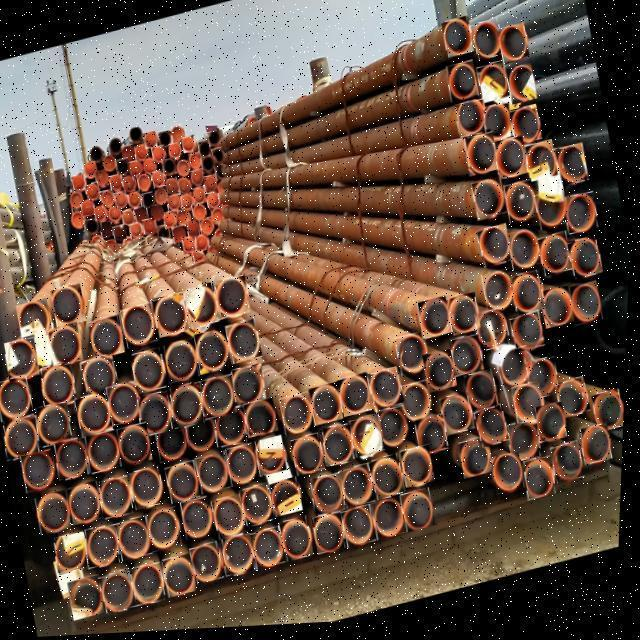pipe: (77, 392, 116, 439), (82, 354, 122, 399), (185, 284, 223, 331), (103, 569, 141, 616), (0, 374, 37, 422), (154, 293, 192, 339), (214, 496, 252, 542), (372, 457, 409, 504), (119, 517, 157, 562), (71, 575, 109, 620), (90, 315, 127, 361), (123, 303, 160, 349), (133, 349, 170, 395), (196, 330, 233, 376), (538, 237, 575, 282), (370, 370, 407, 415), (342, 467, 379, 512), (227, 321, 264, 366), (512, 275, 548, 321), (166, 339, 202, 385), (478, 229, 515, 273), (340, 376, 377, 420), (23, 449, 60, 493), (38, 491, 75, 535), (70, 482, 107, 526), (132, 467, 169, 511), (165, 555, 202, 599), (483, 273, 519, 318), (52, 283, 88, 328), (243, 485, 279, 530), (109, 382, 145, 427), (120, 423, 156, 468), (39, 402, 75, 447), (442, 396, 478, 440), (403, 492, 439, 536), (7, 416, 43, 460), (89, 431, 125, 475), (198, 453, 234, 497), (283, 519, 318, 564), (141, 393, 176, 438), (204, 376, 239, 421), (43, 363, 78, 408), (151, 509, 186, 554), (173, 384, 207, 430), (18, 298, 55, 340), (569, 242, 605, 285), (168, 462, 204, 505), (470, 22, 505, 66), (473, 181, 508, 225), (419, 300, 454, 344), (467, 374, 502, 418), (398, 335, 433, 379), (402, 384, 437, 428), (311, 385, 346, 429), (353, 417, 388, 461), (375, 500, 410, 544), (294, 435, 329, 479), (50, 324, 85, 368), (571, 287, 605, 332), (283, 394, 317, 439), (509, 232, 544, 275), (553, 446, 588, 489), (477, 409, 512, 452), (345, 508, 380, 551), (254, 529, 289, 572), (466, 137, 500, 181), (556, 148, 590, 192), (426, 353, 460, 397), (228, 445, 262, 489), (90, 525, 124, 569), (512, 316, 547, 358), (558, 382, 593, 424), (403, 449, 438, 491), (495, 142, 529, 185), (543, 291, 577, 334), (449, 297, 483, 340), (478, 313, 512, 356), (514, 387, 548, 430), (494, 457, 528, 500), (8, 338, 42, 381), (218, 278, 252, 321), (158, 421, 192, 464), (57, 439, 91, 482), (103, 477, 137, 520), (194, 543, 228, 586), (505, 185, 538, 229), (380, 409, 413, 453), (536, 194, 571, 235), (525, 145, 559, 187), (502, 351, 536, 393), (462, 441, 496, 483), (136, 565, 170, 607), (477, 65, 510, 108), (594, 395, 627, 438), (315, 476, 348, 519), (246, 399, 280, 440), (58, 533, 92, 574), (566, 198, 599, 240), (453, 339, 486, 381), (317, 515, 350, 557), (235, 367, 268, 409), (226, 537, 259, 579), (527, 462, 559, 505), (185, 499, 217, 542), (272, 480, 306, 520), (497, 27, 530, 68), (188, 415, 221, 456), (442, 20, 474, 62), (512, 425, 544, 467), (326, 427, 358, 469), (218, 409, 251, 449), (447, 65, 479, 106), (511, 109, 543, 150), (583, 430, 615, 471), (419, 419, 451, 460), (258, 438, 290, 479), (530, 363, 561, 405), (538, 408, 570, 448), (508, 68, 538, 109), (457, 104, 488, 141), (485, 108, 514, 146), (86, 182, 102, 202), (101, 190, 117, 209), (152, 171, 168, 190), (72, 211, 88, 229), (85, 218, 101, 236), (122, 209, 138, 227), (137, 175, 153, 193), (162, 159, 178, 177), (116, 158, 131, 177), (135, 206, 150, 225), (177, 160, 192, 179), (204, 176, 219, 195), (173, 226, 188, 245), (207, 192, 222, 211), (194, 187, 208, 207), (73, 174, 88, 192), (70, 191, 85, 209), (201, 219, 216, 237), (193, 205, 208, 223), (109, 137, 123, 156), (115, 191, 129, 210), (153, 146, 167, 165), (109, 207, 124, 224), (110, 174, 125, 191), (151, 205, 166, 222), (191, 170, 206, 187), (90, 146, 104, 164), (103, 155, 117, 173), (123, 176, 137, 194), (136, 144, 150, 162), (144, 159, 158, 177), (156, 189, 170, 207), (202, 158, 216, 176), (166, 178, 180, 196), (165, 211, 178, 230), (185, 237, 198, 256), (144, 219, 159, 235), (130, 127, 144, 144), (122, 145, 136, 162), (82, 200, 96, 217), (131, 223, 145, 240), (158, 225, 172, 242), (159, 132, 173, 149), (169, 143, 183, 160), (183, 137, 197, 154), (96, 170, 109, 188), (130, 192, 143, 210), (172, 126, 185, 144), (182, 195, 195, 213), (84, 162, 98, 178), (130, 161, 144, 177), (189, 154, 203, 170), (169, 196, 183, 212), (102, 222, 115, 239), (114, 225, 127, 242), (143, 192, 156, 209), (199, 142, 212, 159), (208, 131, 221, 148), (212, 149, 225, 166), (179, 179, 192, 196), (213, 210, 226, 227), (146, 132, 158, 150), (215, 165, 227, 183), (95, 205, 108, 221), (198, 236, 211, 252), (189, 222, 201, 239), (194, 251, 207, 265), (179, 211, 190, 227), (107, 240, 119, 253), (218, 183, 226, 197)
